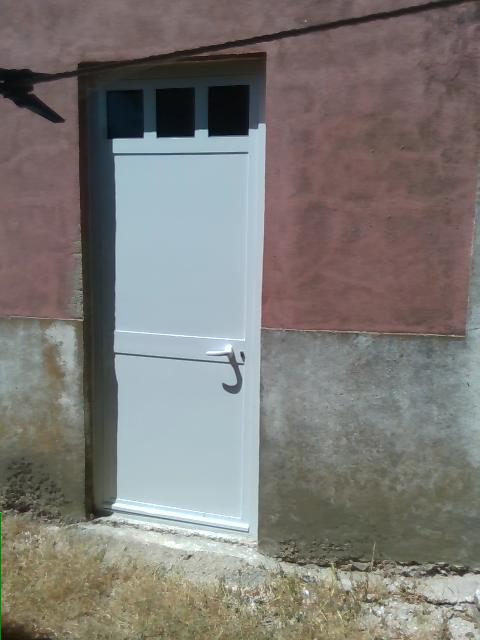door: (79, 52, 267, 550)
